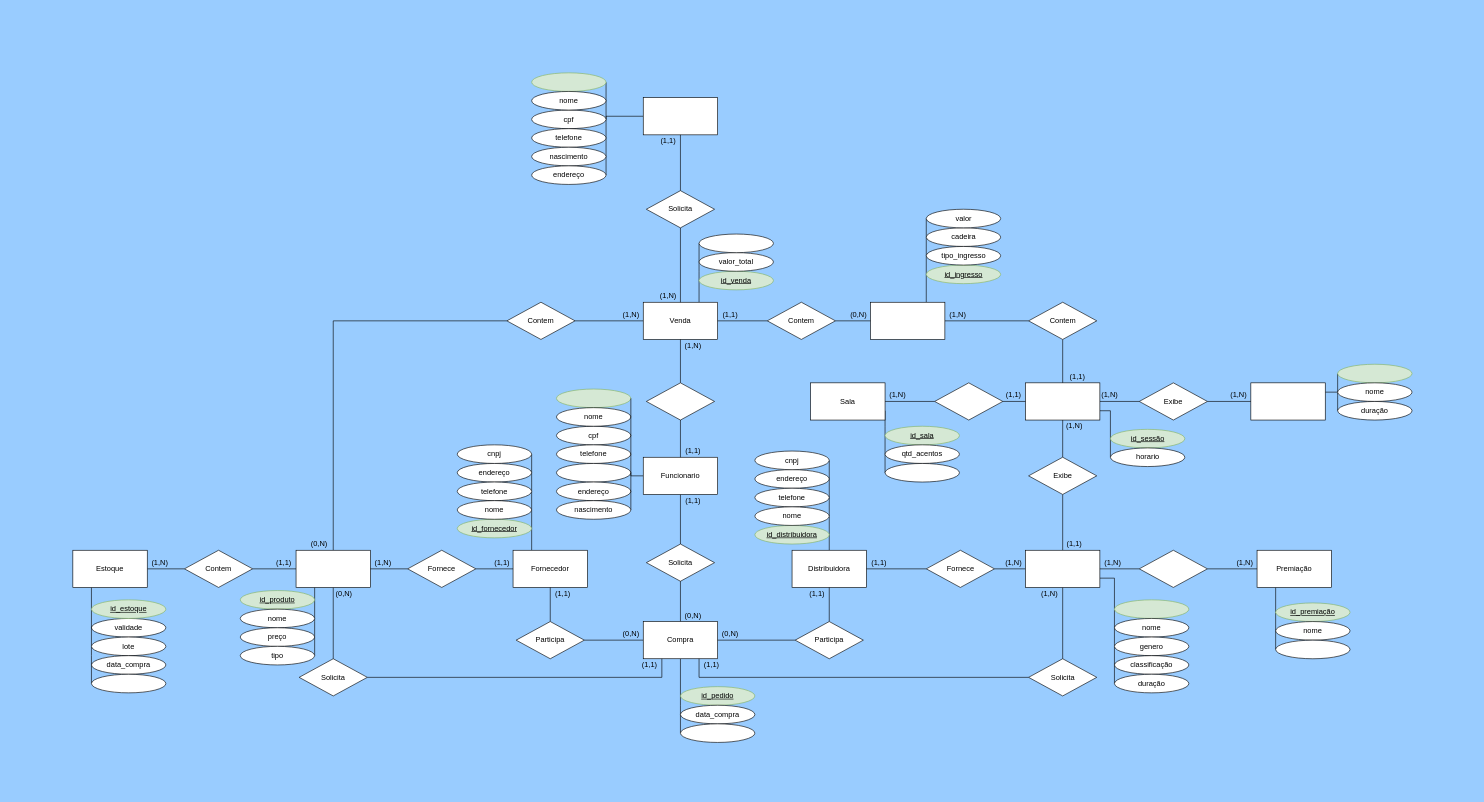
Image size: 1484x802. Some labels were removed from this diagram. Each missing label, with the box of its shape:
ano: (1275, 640, 1350, 659)
Cliente: (643, 97, 718, 135)
data: (698, 233, 773, 253)
Filme: (1025, 550, 1100, 587)
função: (556, 463, 631, 482)
id_cliente: (531, 72, 606, 91)
id_filme: (1114, 599, 1189, 618)
id_funcionario: (556, 388, 631, 408)
id_propaganda: (1337, 364, 1412, 383)
Indica: (934, 382, 1003, 420)
Ingresso: (870, 302, 945, 339)
Possui: (1139, 550, 1207, 587)
preço_compra: (680, 723, 755, 742)
Propaganda: (1250, 382, 1325, 420)
qtd: (91, 674, 166, 693)
Realiza: (646, 382, 715, 420)
Sessão: (1025, 382, 1100, 420)
Snack_Bar: (295, 550, 370, 587)
tipo_tela: (884, 463, 959, 482)
